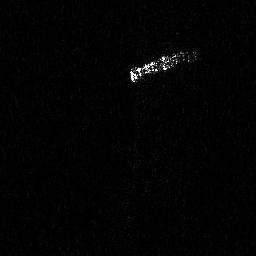ship: (128, 45, 200, 84)
